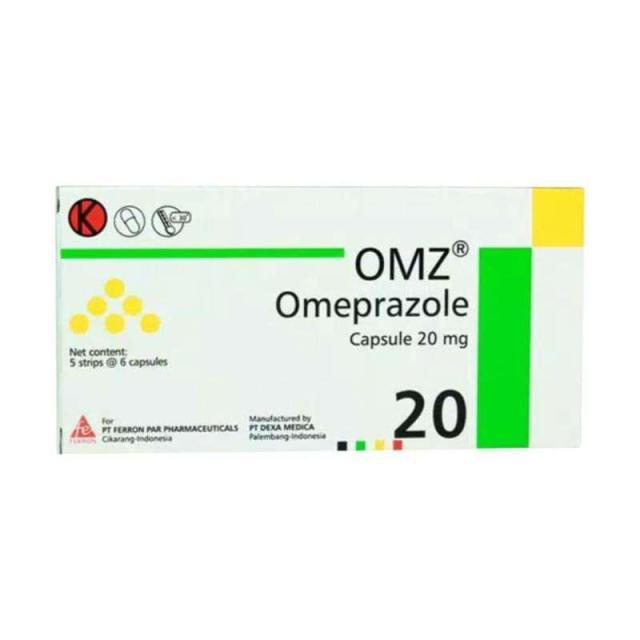drug-name: (352, 239, 454, 283)
